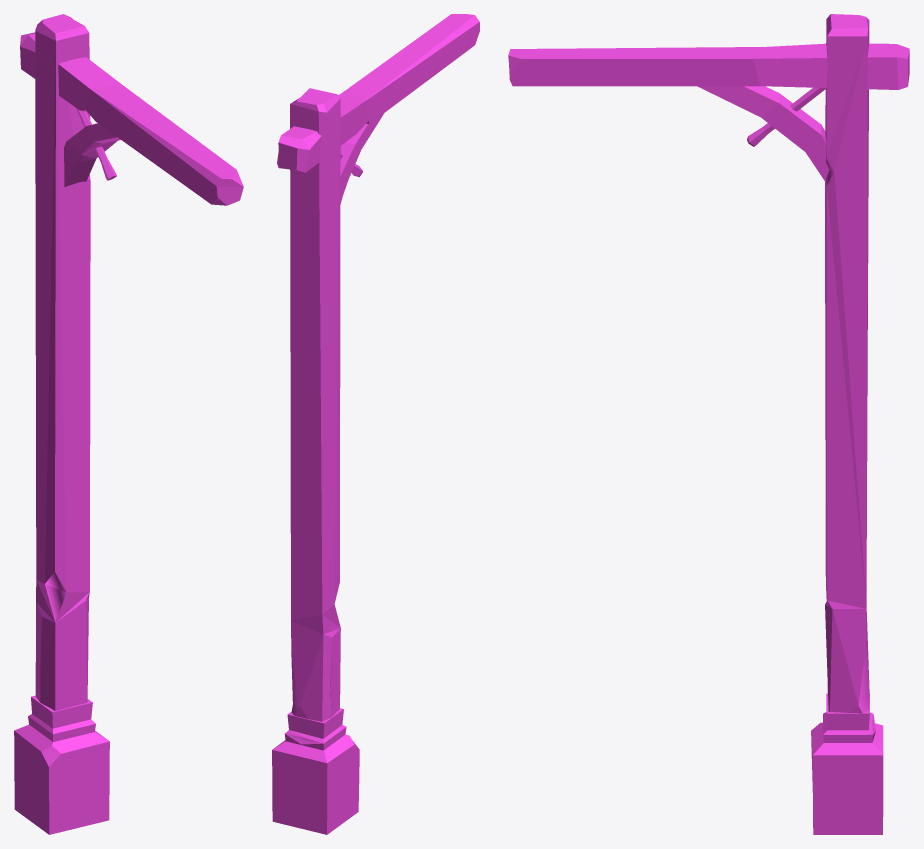
File: SM_Signboard_Holder_D_Fantasy.fbx
The picture shows the model from 3 angles, left to right: view 1: azimuth 30°, elevation 25°; view 2: azimuth 150°, elevation 25°; view 3: azimuth 270°, elevation 25°; orthographic projection. The views are drawn at different scales.
Visible parts, largest first — view 1: SM_Singboard_Holder_D_Fantasy; view 2: SM_Singboard_Holder_D_Fantasy; view 3: SM_Singboard_Holder_D_Fantasy.
Boxes of the visible parts, <box> form: SM_Singboard_Holder_D_Fantasy: <box>14,14,243,834</box>; SM_Singboard_Holder_D_Fantasy: <box>272,14,479,834</box>; SM_Singboard_Holder_D_Fantasy: <box>508,14,909,834</box>.
Bounding box in the file's own units: 0.332 × 4.04 × 1.84.
